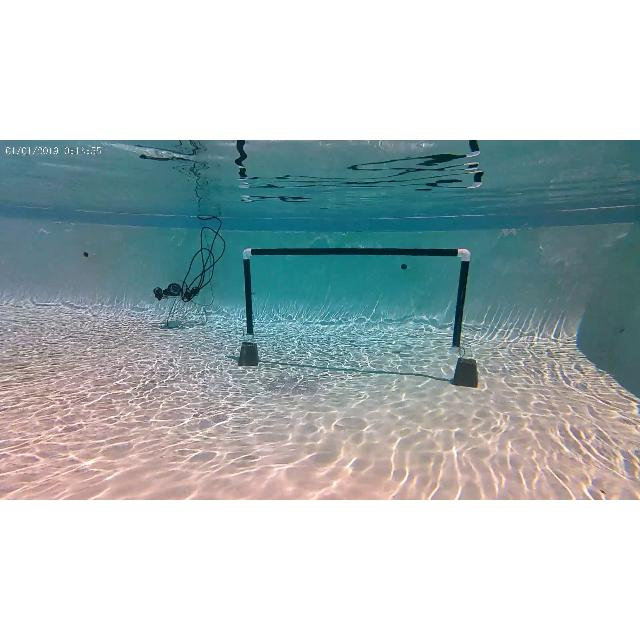prequal gate: (244, 248, 471, 352)
prequal gate leg l: (242, 250, 255, 336)
prequal gate leg r: (453, 247, 471, 349)
